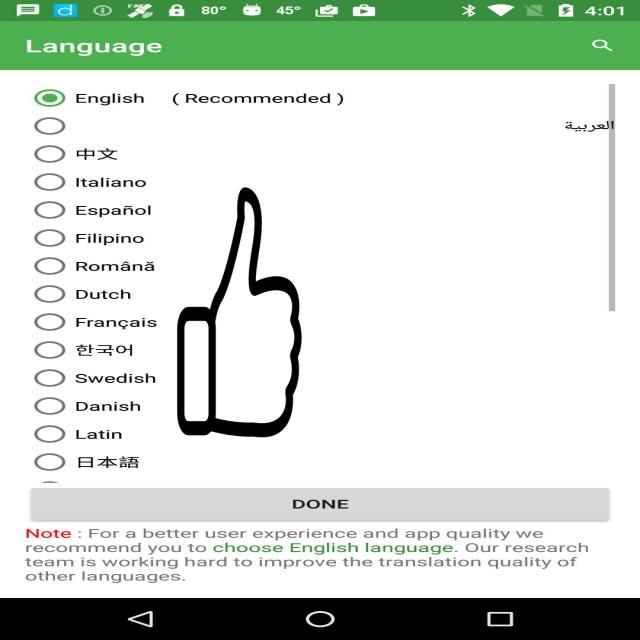privacy zuckering: (175, 188, 304, 438)
